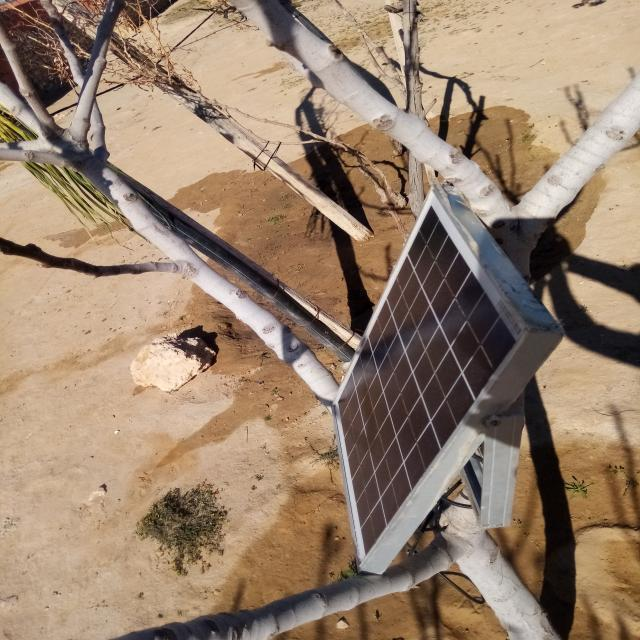Normal Solar Panel: (328, 192, 537, 562)
